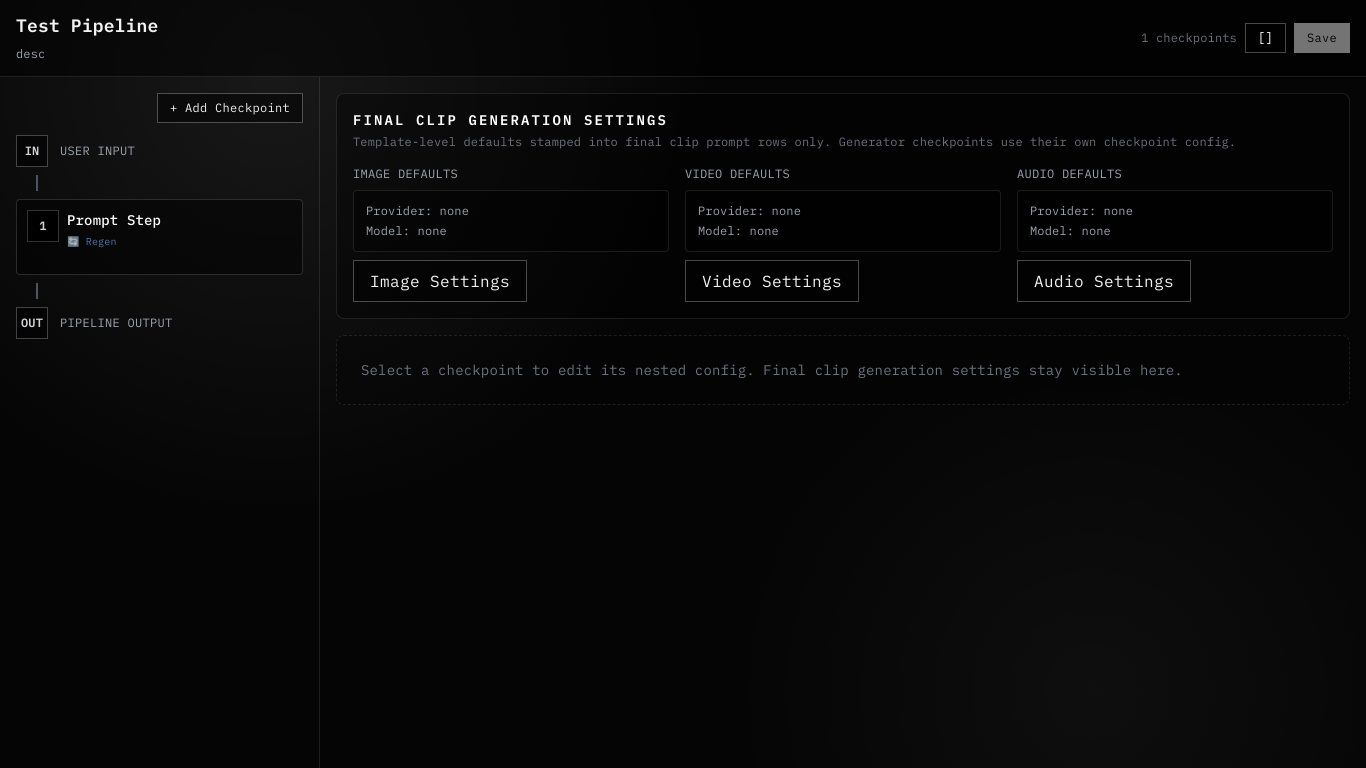
Test: PipelineEditor › keeps Final Clip Generation Settings visible while a checkpoint is selected
Click the text "Prompt Step" at (114, 220), box x1=67 y1=210 x2=161 y2=230
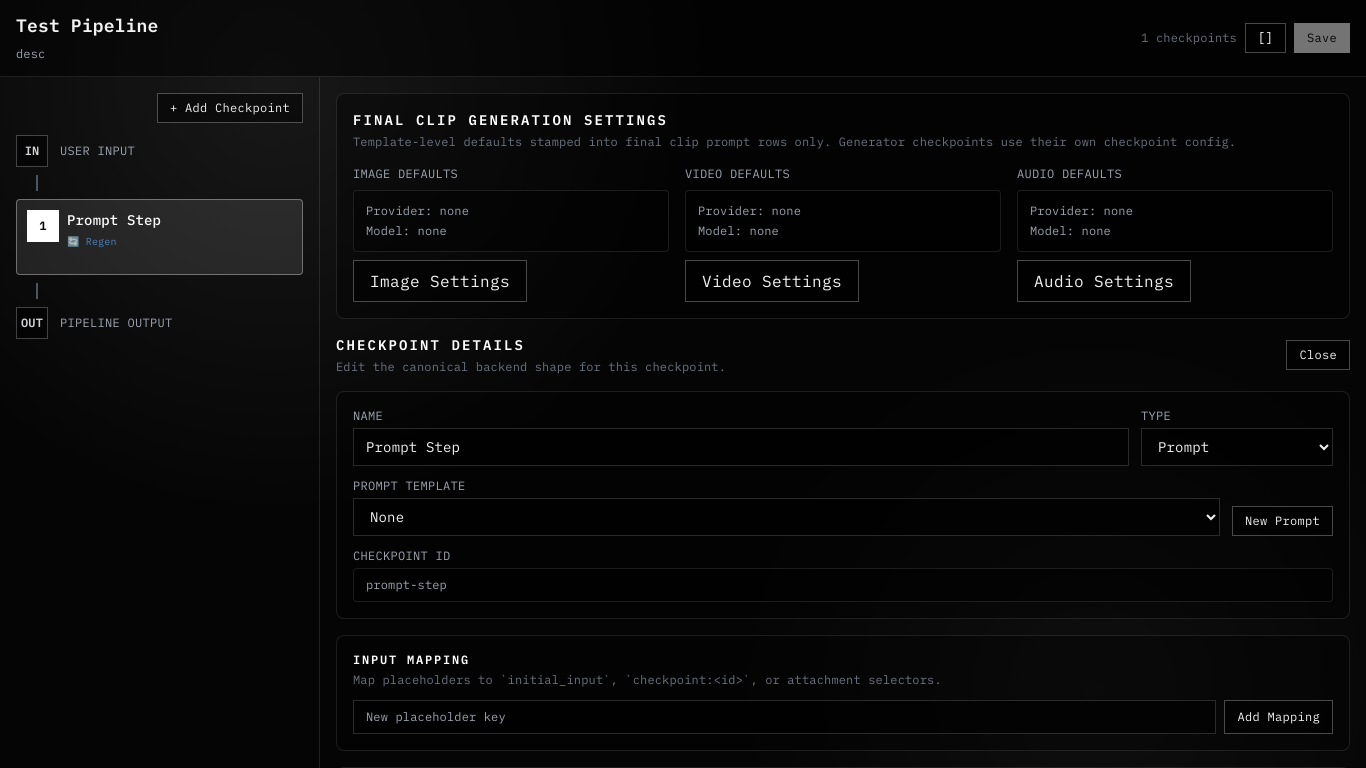
Expected: the heading "Final Clip Generation Settings" is shown, x1=353 y1=111 x2=668 y2=129
Now the heading "Checkpoint Details" is shown, box x1=336 y1=336 x2=525 y2=354
